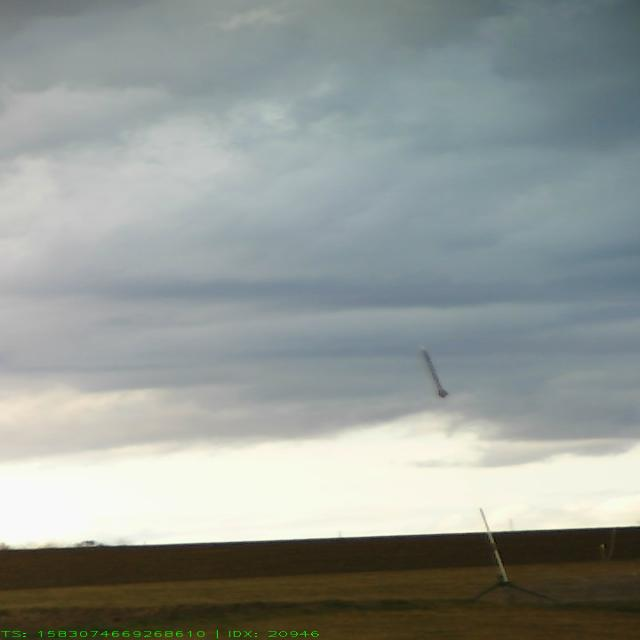Rocket: (420, 344, 450, 398)
